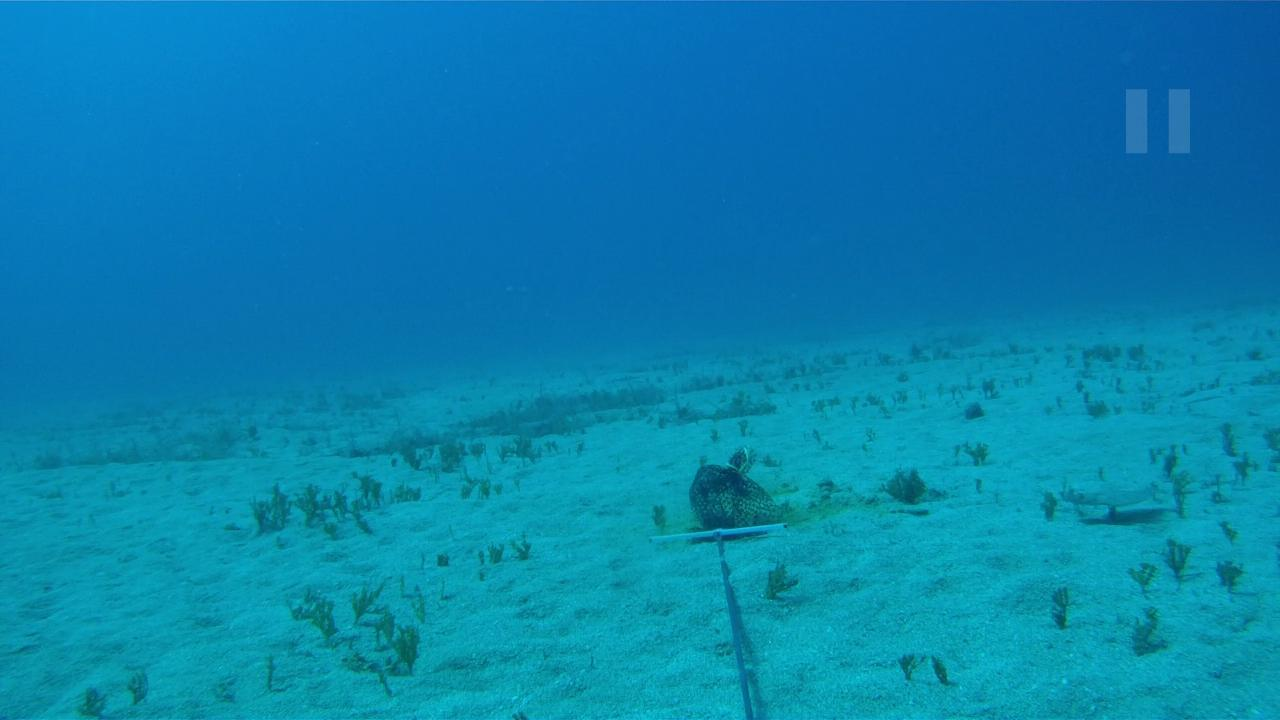bothus: (1053, 480, 1173, 510)
